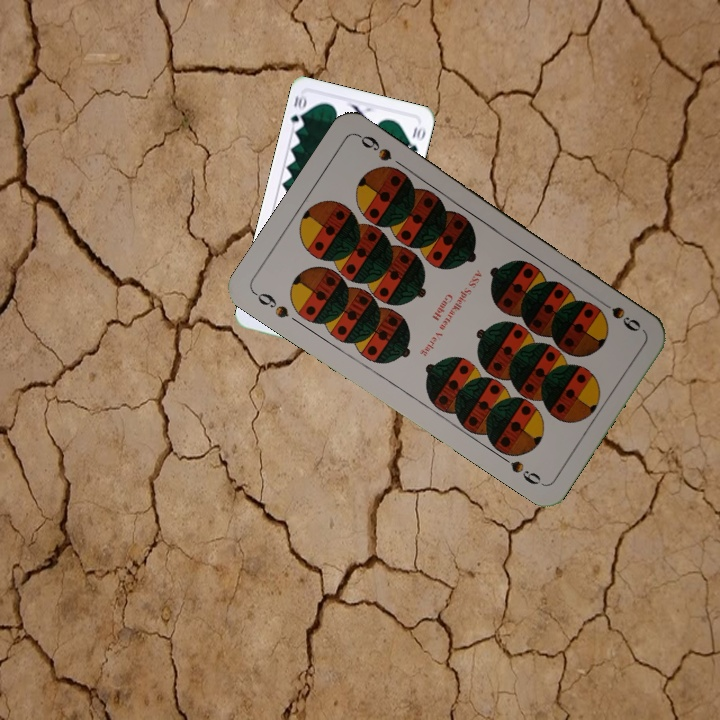G10: (286, 91, 309, 132)
S9: (593, 294, 644, 335), (249, 287, 292, 321)
